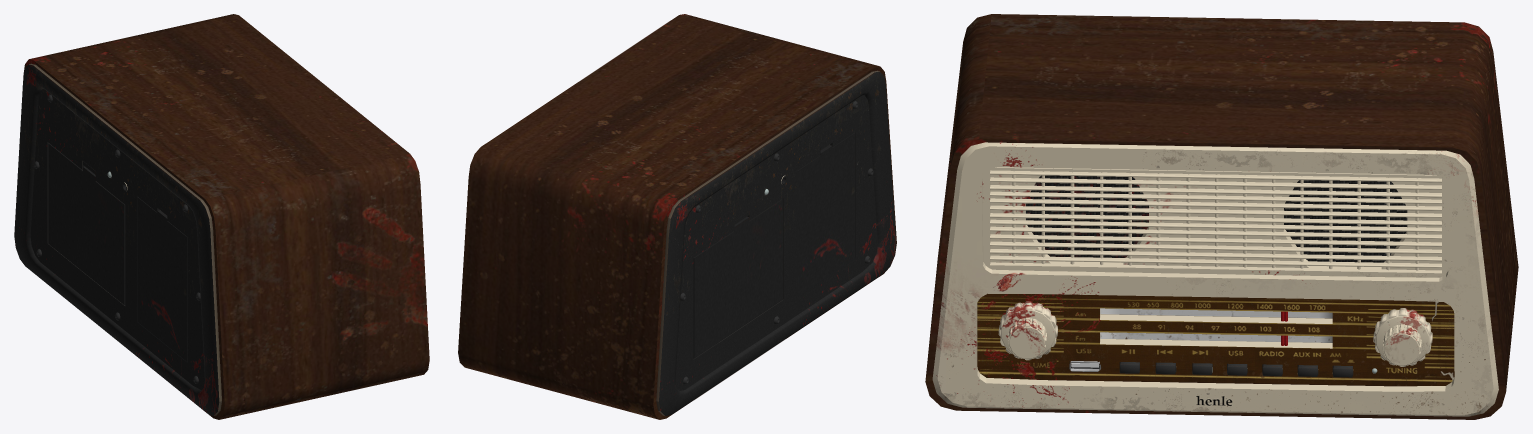
File: radio.glb
3 renders of one model, left to right at view 1: azimuth 30°, elevation 25°; view 2: azimuth 150°, elevation 25°; view 3: azimuth 270°, elevation 25°, orthographic. The views are drawn at different scales.
Parts seen in each view (by area): view 1: Object_2; view 2: Object_2; view 3: Object_2.
Boxes of the visible parts, left/top/right/bottom form: Object_2: left=14, top=14, right=429, bottom=419; Object_2: left=458, top=14, right=896, bottom=419; Object_2: left=925, top=14, right=1518, bottom=419.
Size of the model in its own units: 181 by 155 by 306.
Materials: 1 (1 with a texture image).
